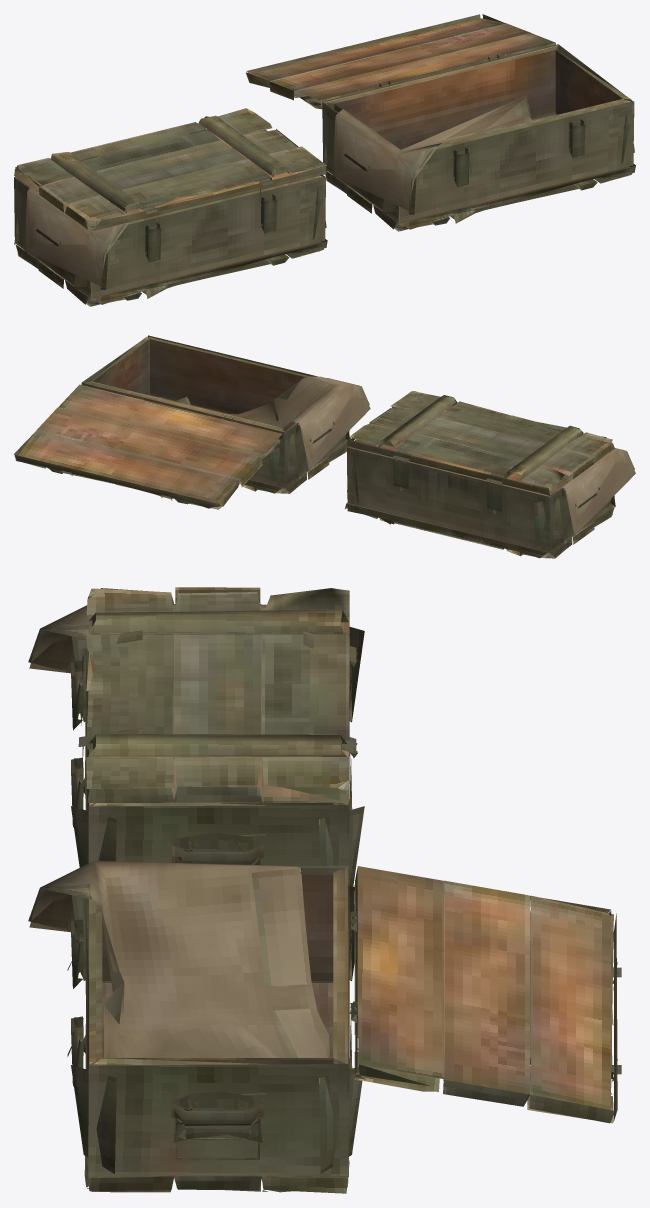
The model's file is old_military_crate.glb.
3 views of the same model, one above another, from view 1: azimuth 30°, elevation 25°; view 2: azimuth 150°, elevation 25°; view 3: azimuth 270°, elevation 25° (orthographic). The views are drawn at different scales.
Visible parts, largest first — view 1: old_military_crate_lid_a; view 2: old_military_crate_lid_a; view 3: old_military_crate_lid_a.
Part boxes in pixels (x1,y1,x2,y2): old_military_crate_lid_a: (14, 14, 635, 306); old_military_crate_lid_a: (14, 335, 635, 558); old_military_crate_lid_a: (28, 587, 621, 1193).
Size of the model in its own units: 1.82 by 0.3015 by 0.969.
Materials: 1 (1 with a texture image).
